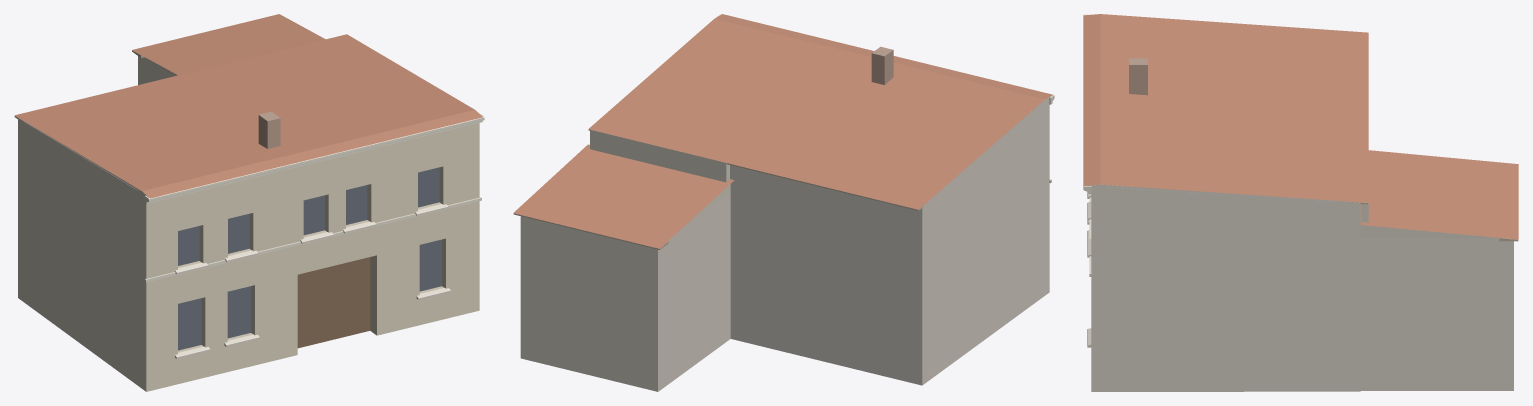
3 renders of one model, left to right at view 1: azimuth 30°, elevation 25°; view 2: azimuth 150°, elevation 25°; view 3: azimuth 270°, elevation 25°, orthographic. The views are drawn at different scales.
Parts seen in each view (by area): view 1: CP_541_Masonry_Front, CP_541_Roof, CP_541_Masonry, CP_541_WingRoof_Rear_R_Roof, CP_541_Cornice_main_0, CP_541_UpperWall, CP_541_Cornice_band_0, CP_541_Chimney_0, CP_541_Rear_R_Wall; view 2: CP_541_Masonry, CP_541_Roof, CP_541_Rear_R_Wall, CP_541_WingRoof_Rear_R_Roof, CP_541_AtticClosure_1, CP_541_Masonry_Front, CP_541_UpperWall, CP_541_Chimney_0; view 3: CP_541_Roof, CP_541_Masonry, CP_541_Rear_R_Wall, CP_541_WingRoof_Rear_R_Roof, CP_541_Masonry_Front, CP_541_UpperWall, CP_541_Gable_Rear_R_Roof_R, CP_541_Chimney_0, CP_541_AtticClosure.
Part boxes in pixels (x1=…): CP_541_Masonry_Front: x1=139, y1=123, x2=479, y2=391; CP_541_Roof: x1=14, y1=34, x2=482, y2=198; CP_541_Masonry: x1=18, y1=118, x2=138, y2=386; CP_541_WingRoof_Rear_R_Roof: x1=132, y1=14, x2=325, y2=75; CP_541_Cornice_main_0: x1=144, y1=114, x2=484, y2=203; CP_541_UpperWall: x1=18, y1=118, x2=138, y2=206; CP_541_Cornice_band_0: x1=144, y1=197, x2=481, y2=282; CP_541_Chimney_0: x1=258, y1=111, x2=280, y2=148; CP_541_Rear_R_Wall: x1=138, y1=56, x2=173, y2=84; CP_541_Masonry: x1=730, y1=119, x2=1042, y2=385; CP_541_Roof: x1=588, y1=14, x2=1052, y2=209; CP_541_Rear_R_Wall: x1=520, y1=193, x2=730, y2=391; CP_541_WingRoof_Rear_R_Roof: x1=513, y1=144, x2=734, y2=248; CP_541_AtticClosure_1: x1=590, y1=129, x2=729, y2=182; CP_541_Masonry_Front: x1=1042, y1=98, x2=1049, y2=297; CP_541_UpperWall: x1=922, y1=104, x2=1042, y2=206; CP_541_Chimney_0: x1=871, y1=46, x2=893, y2=84; CP_541_Roof: x1=1083, y1=14, x2=1368, y2=202; CP_541_Masonry: x1=1107, y1=203, x2=1360, y2=391; CP_541_Rear_R_Wall: x1=1360, y1=238, x2=1513, y2=390; CP_541_WingRoof_Rear_R_Roof: x1=1360, y1=150, x2=1518, y2=239; CP_541_Masonry_Front: x1=1091, y1=186, x2=1106, y2=391; CP_541_UpperWall: x1=1107, y1=187, x2=1359, y2=203; CP_541_Gable_Rear_R_Roof_R: x1=1360, y1=225, x2=1497, y2=237; CP_541_Chimney_0: x1=1129, y1=58, x2=1147, y2=95; CP_541_AtticClosure: x1=1112, y1=187, x2=1348, y2=201.
Bounding box in the file's own units: 12.98 × 8.2 × 13.8.
